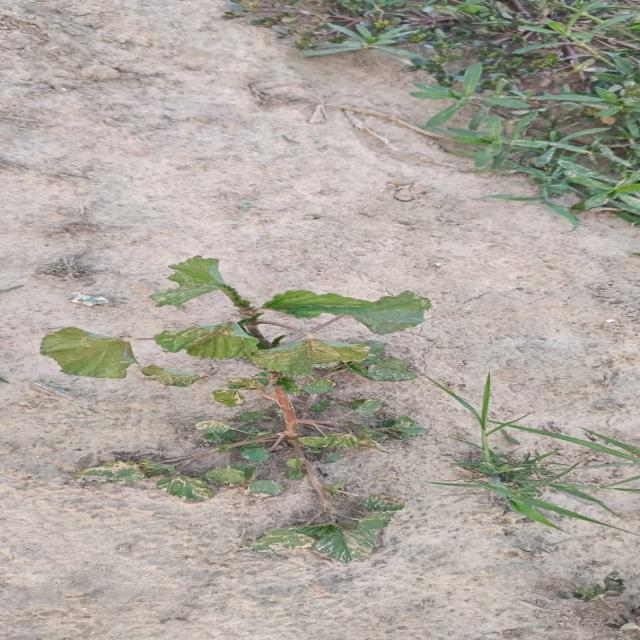plant: (38, 256, 430, 562)
